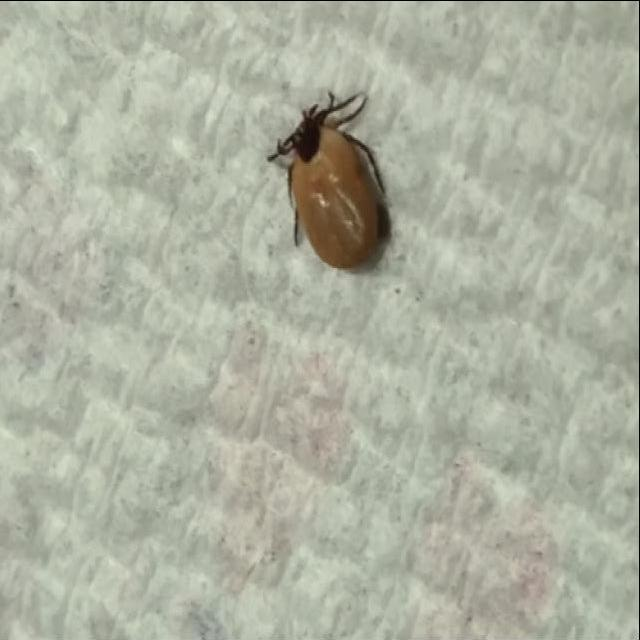Ixodes Ricinus-F-Fed: (273, 90, 396, 275)
